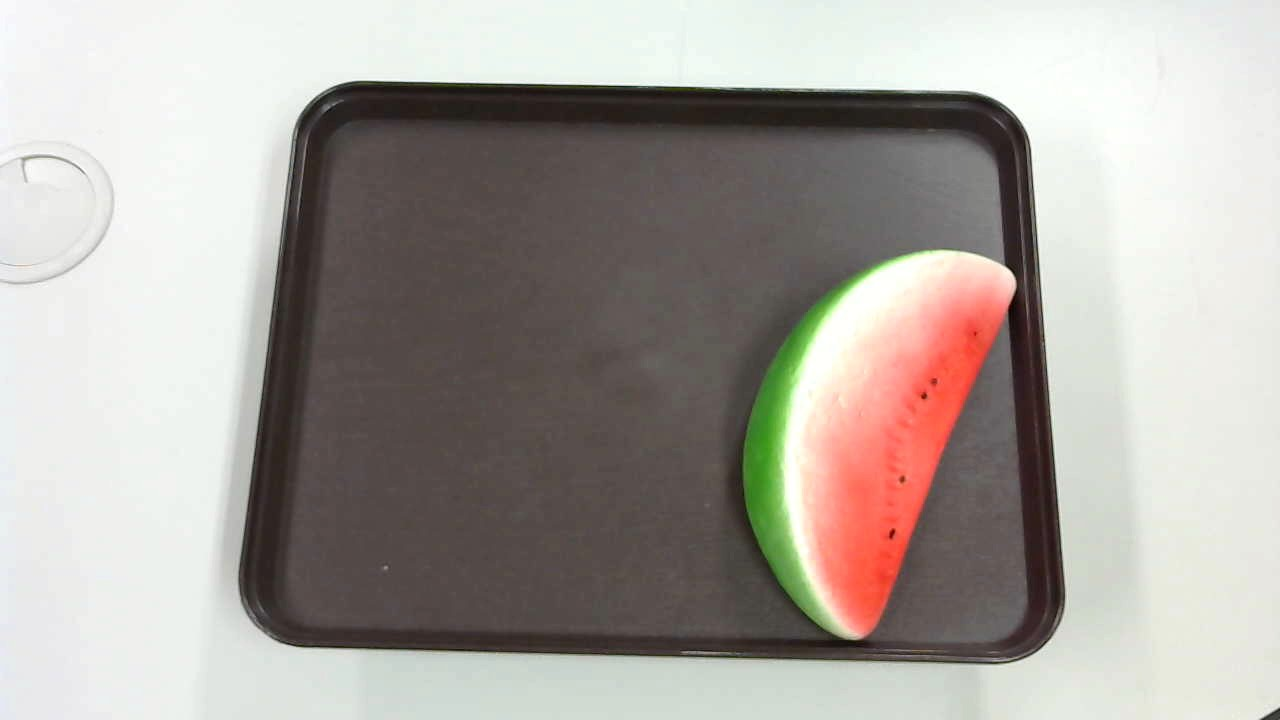water melon: (737, 247, 1017, 646)
